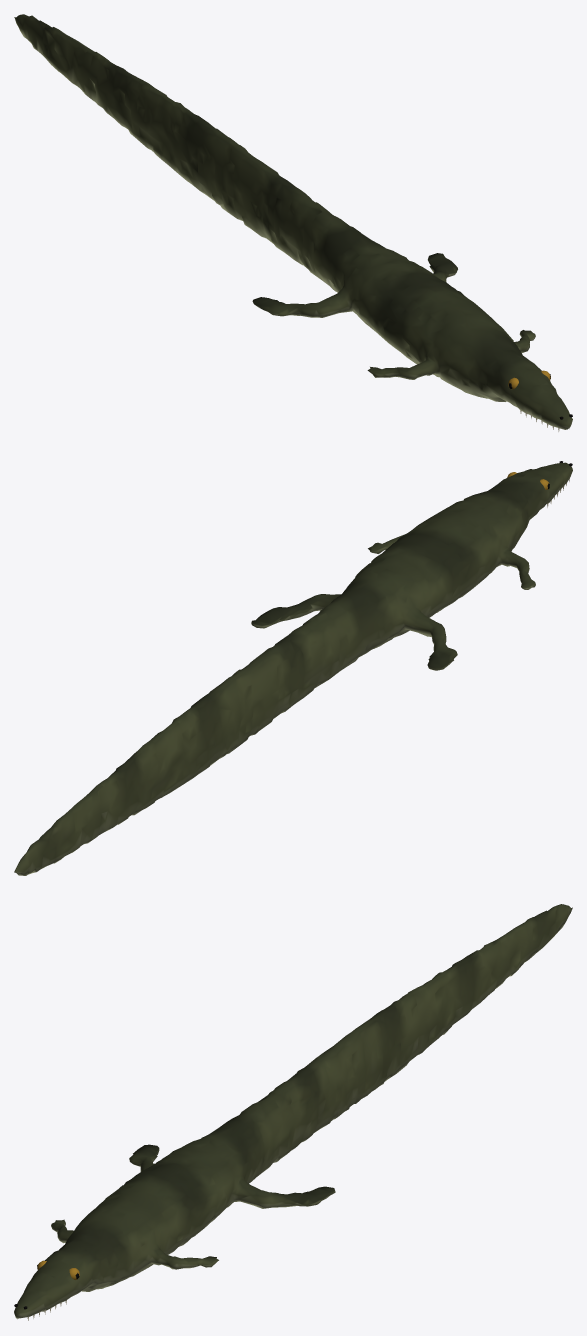
Rendered from Hovasaurus.fbx.
The picture shows the model from 3 angles, top to bottom: view 1: azimuth 30°, elevation 25°; view 2: azimuth 150°, elevation 25°; view 3: azimuth 330°, elevation 25°; orthographic projection.
Visible parts, largest first — view 1: Hovasaurus; view 2: Hovasaurus; view 3: Hovasaurus.
Boxes of the visible parts, x1,y1,x2,y2 form: Hovasaurus: (14, 14, 572, 431); Hovasaurus: (14, 461, 572, 875); Hovasaurus: (14, 904, 572, 1320).
Bounding box in the file's own units: 0.3259 × 0.1201 × 1.64.
